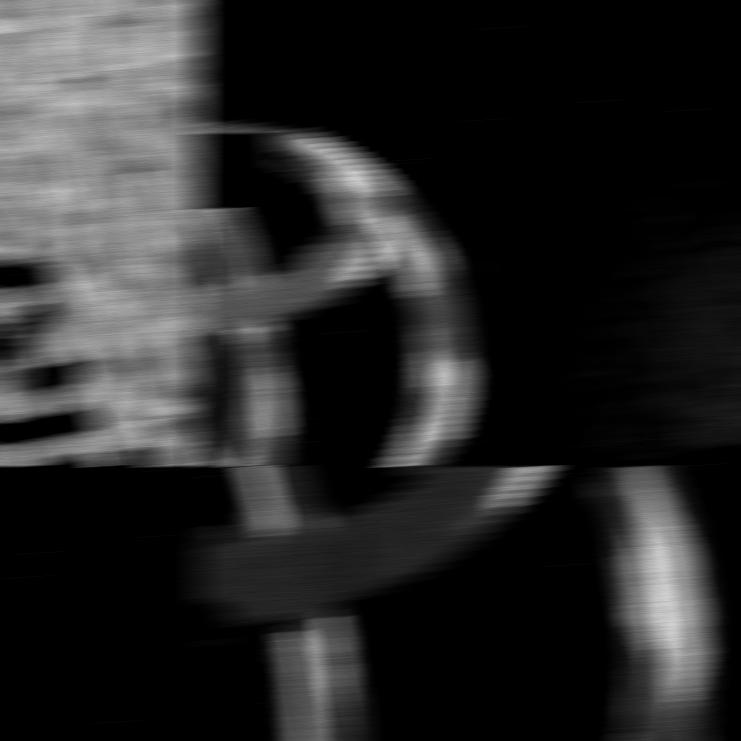Airbag: (194, 0, 741, 466), (194, 466, 741, 741), (0, 0, 206, 466)
